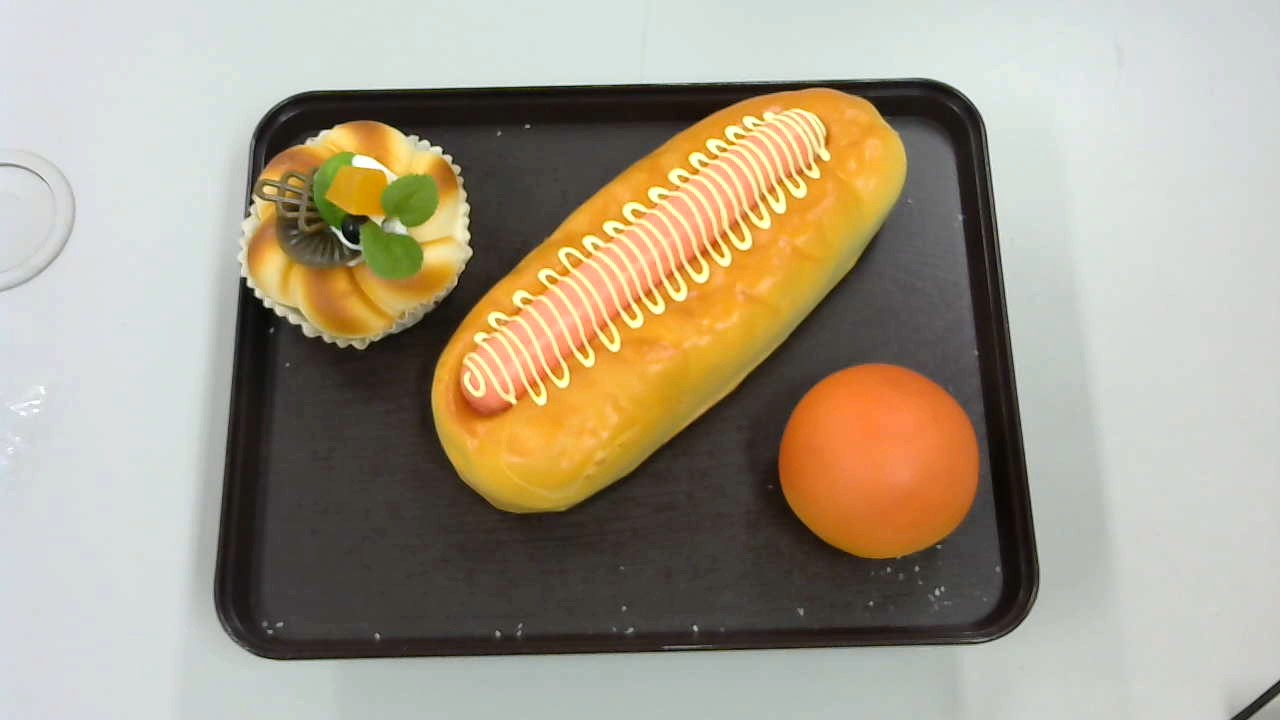bun: (779, 362, 979, 560)
fruit tart: (234, 117, 473, 350)
hot dog: (432, 88, 905, 514)
